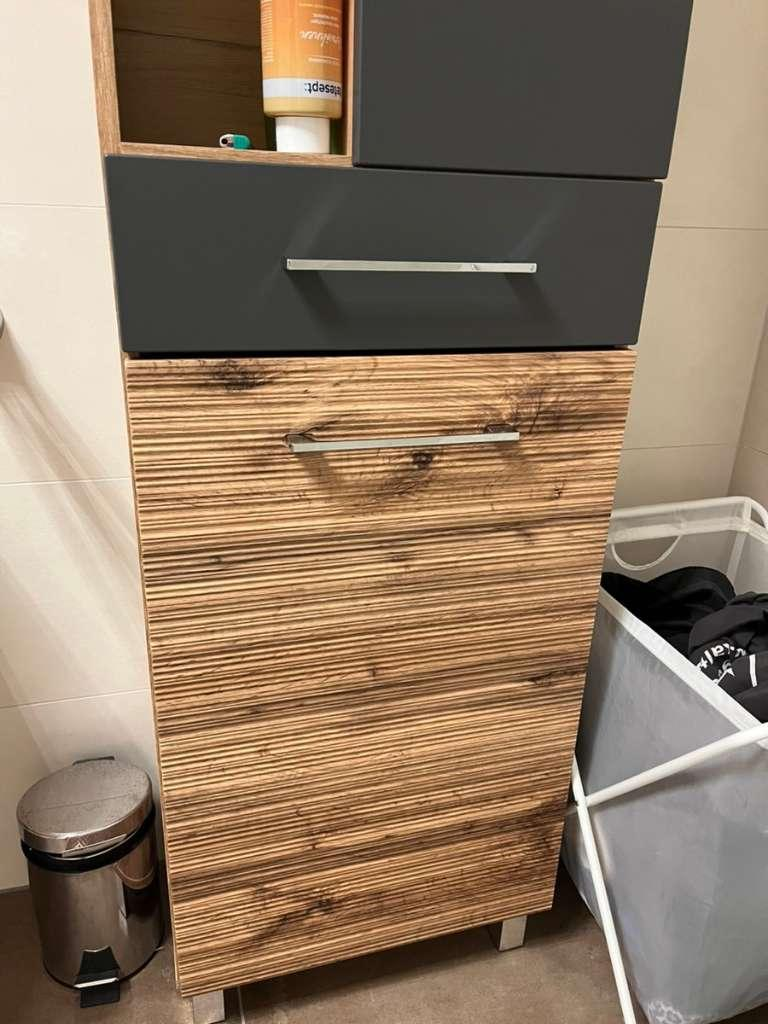cabinet_door: (150, 348, 590, 940), (123, 160, 647, 345)
handle: (279, 237, 544, 285), (278, 415, 532, 460)
